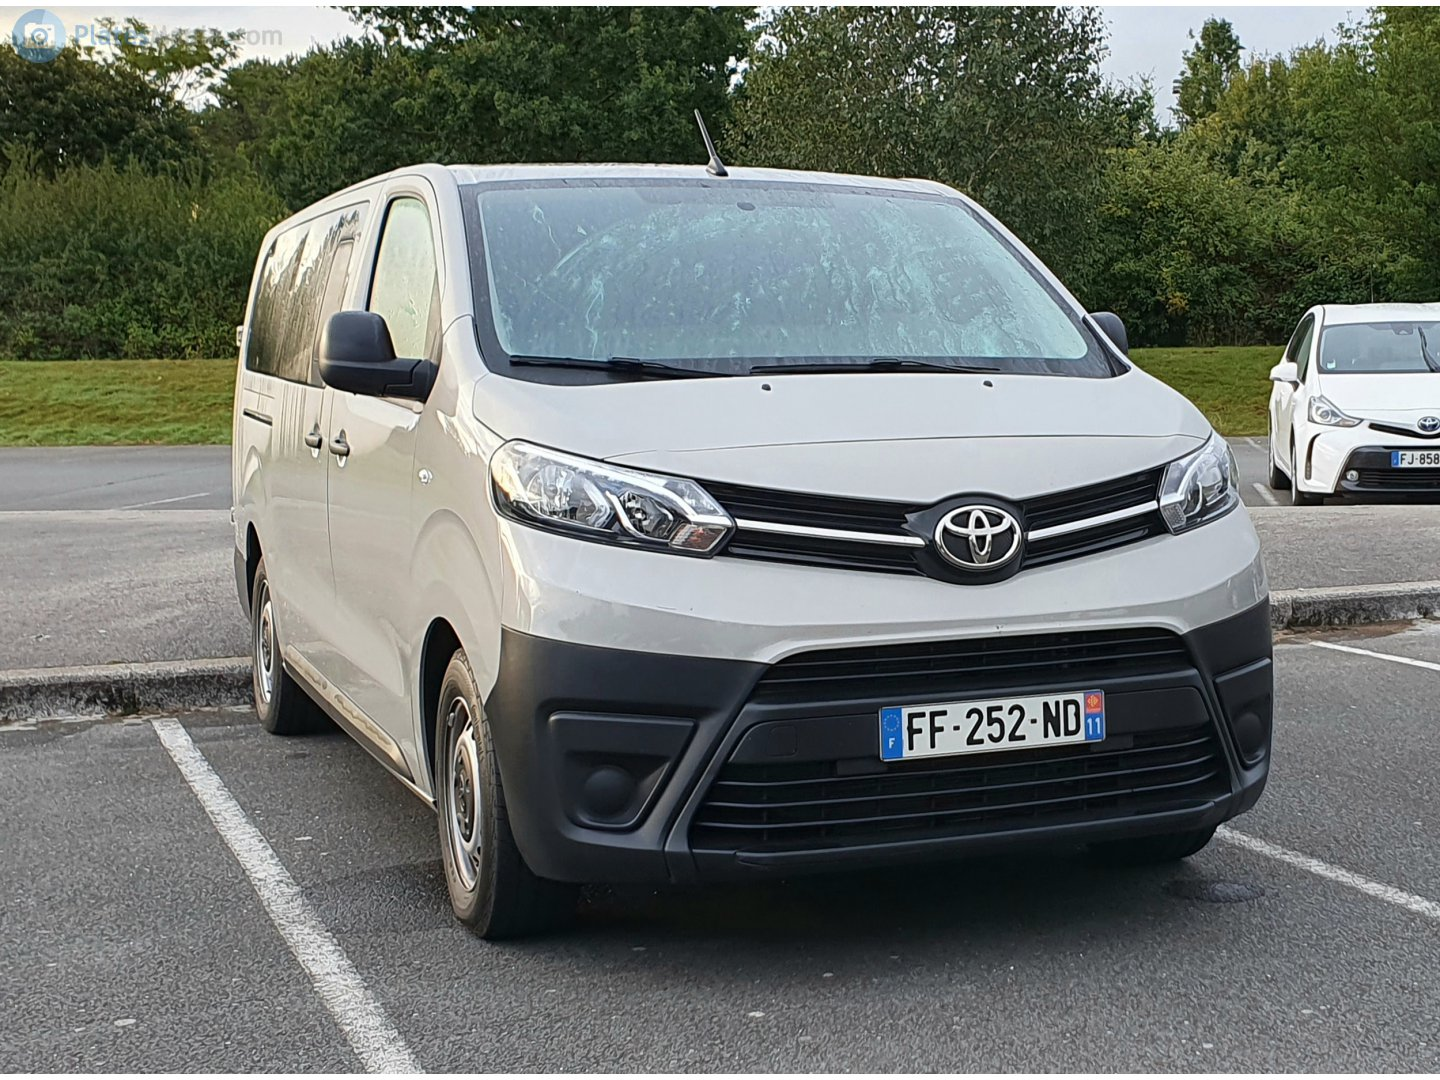licence plate: (876, 687, 1112, 763)
